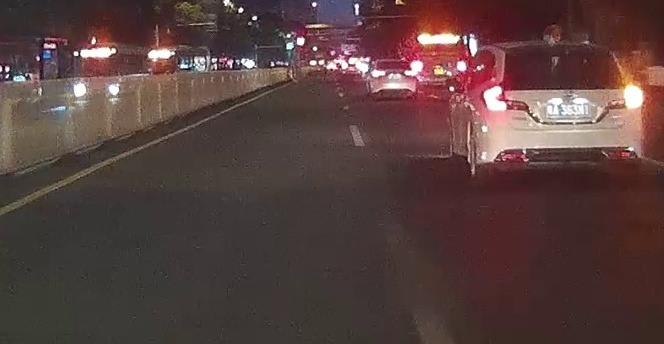L_light: (494, 100, 528, 111), (371, 70, 385, 77)
R_light: (606, 98, 635, 109), (404, 70, 415, 76)
T_light: (556, 44, 572, 49), (389, 58, 396, 62)
night-no: (484, 40, 643, 182), (370, 58, 417, 99)
